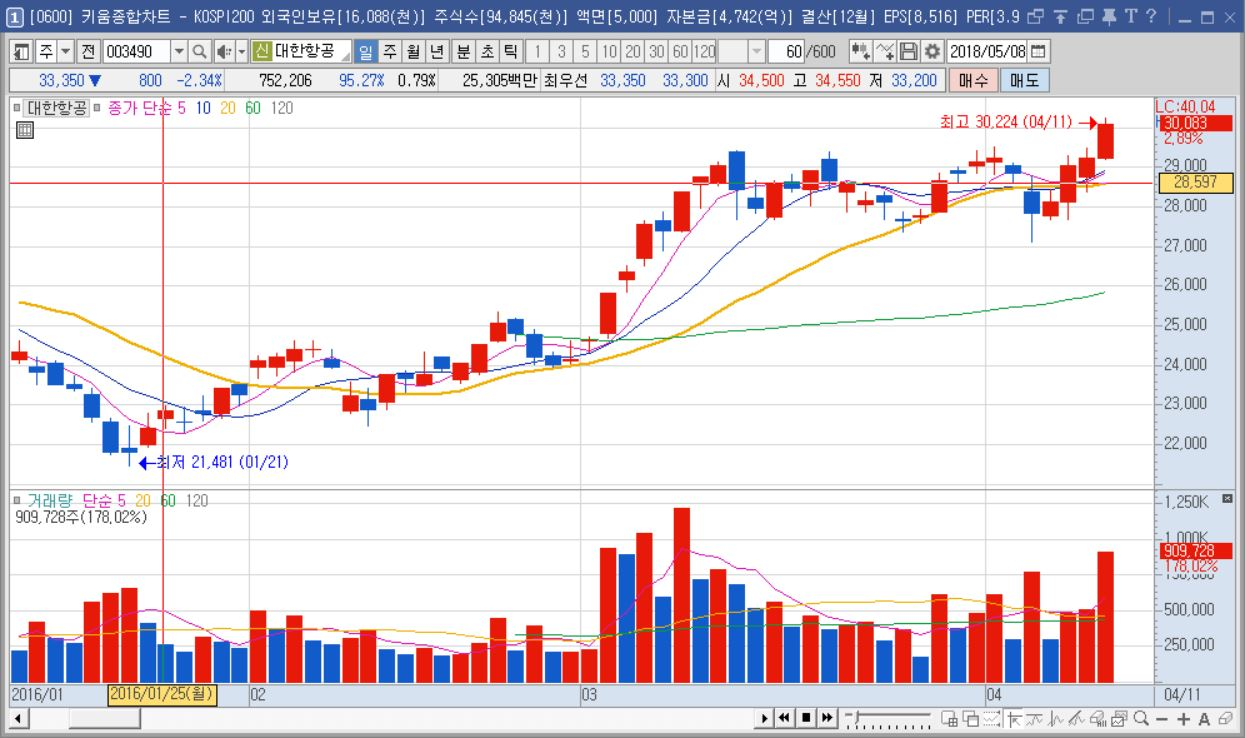up: (596, 108, 1118, 682)
